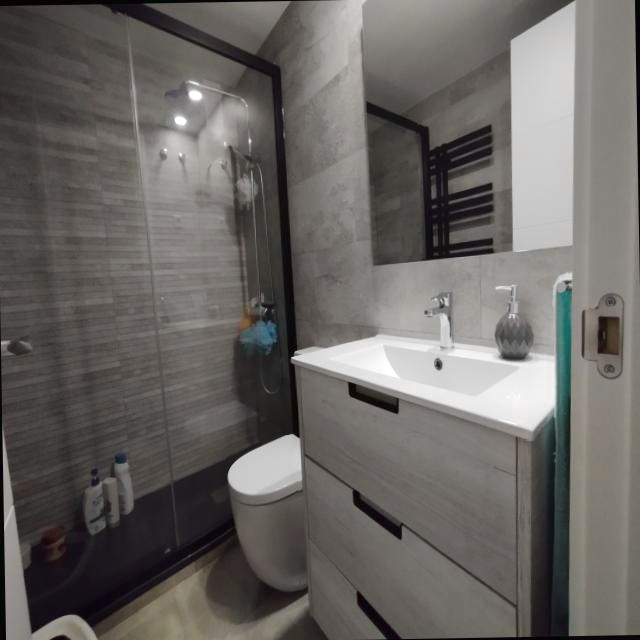cabinet: (296, 369, 554, 640)
shelf: (0, 3, 296, 631)
table: (226, 435, 308, 595)
wardrobe: (291, 293, 556, 439)
